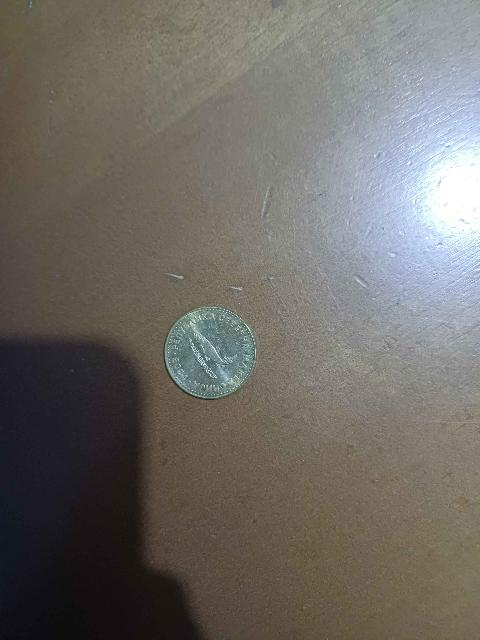2_coin: (165, 308, 256, 397)
